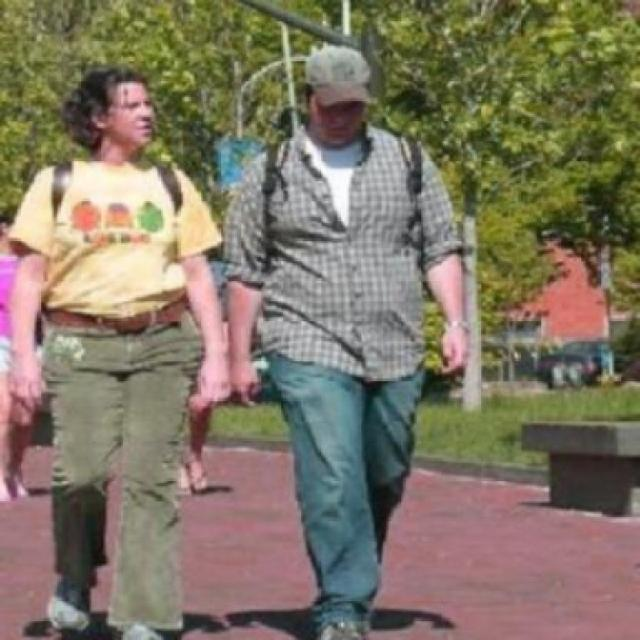Person: (226, 34, 474, 638), (8, 60, 229, 638)
